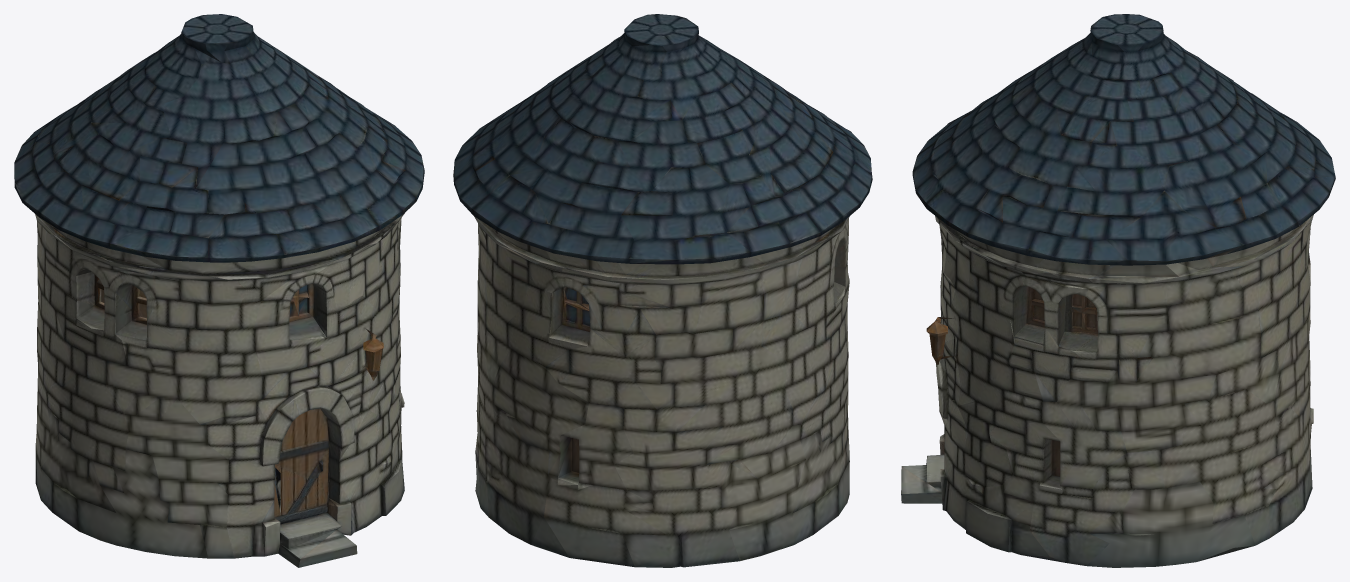
The model's file is tower.glb.
The picture shows the model from 3 angles, left to right: view 1: azimuth 30°, elevation 25°; view 2: azimuth 150°, elevation 25°; view 3: azimuth 270°, elevation 25°; orthographic projection. The views are drawn at different scales.
Visible parts, largest first — view 1: output_unwrapped; view 2: output_unwrapped; view 3: output_unwrapped.
Part boxes in pixels (x1=…): output_unwrapped: x1=14, y1=14, x2=424, y2=567; output_unwrapped: x1=453, y1=14, x2=872, y2=567; output_unwrapped: x1=901, y1=14, x2=1335, y2=567.
Size of the model in its own units: 1.57 by 1.9 by 1.63.
1 material, 1 textured.
